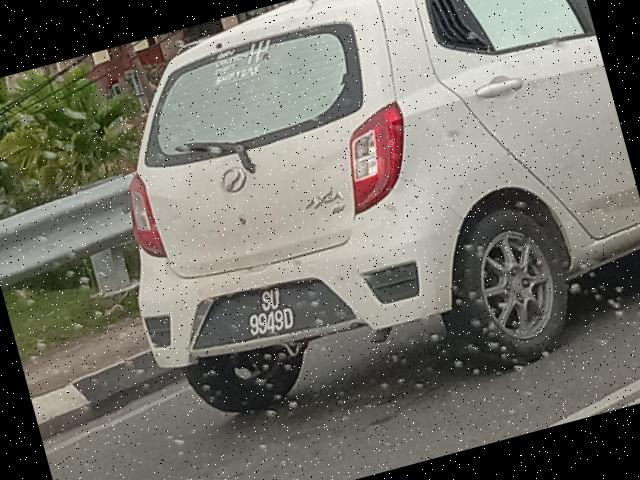License_Plate: (214, 273, 340, 354)
car: (65, 1, 640, 459)
